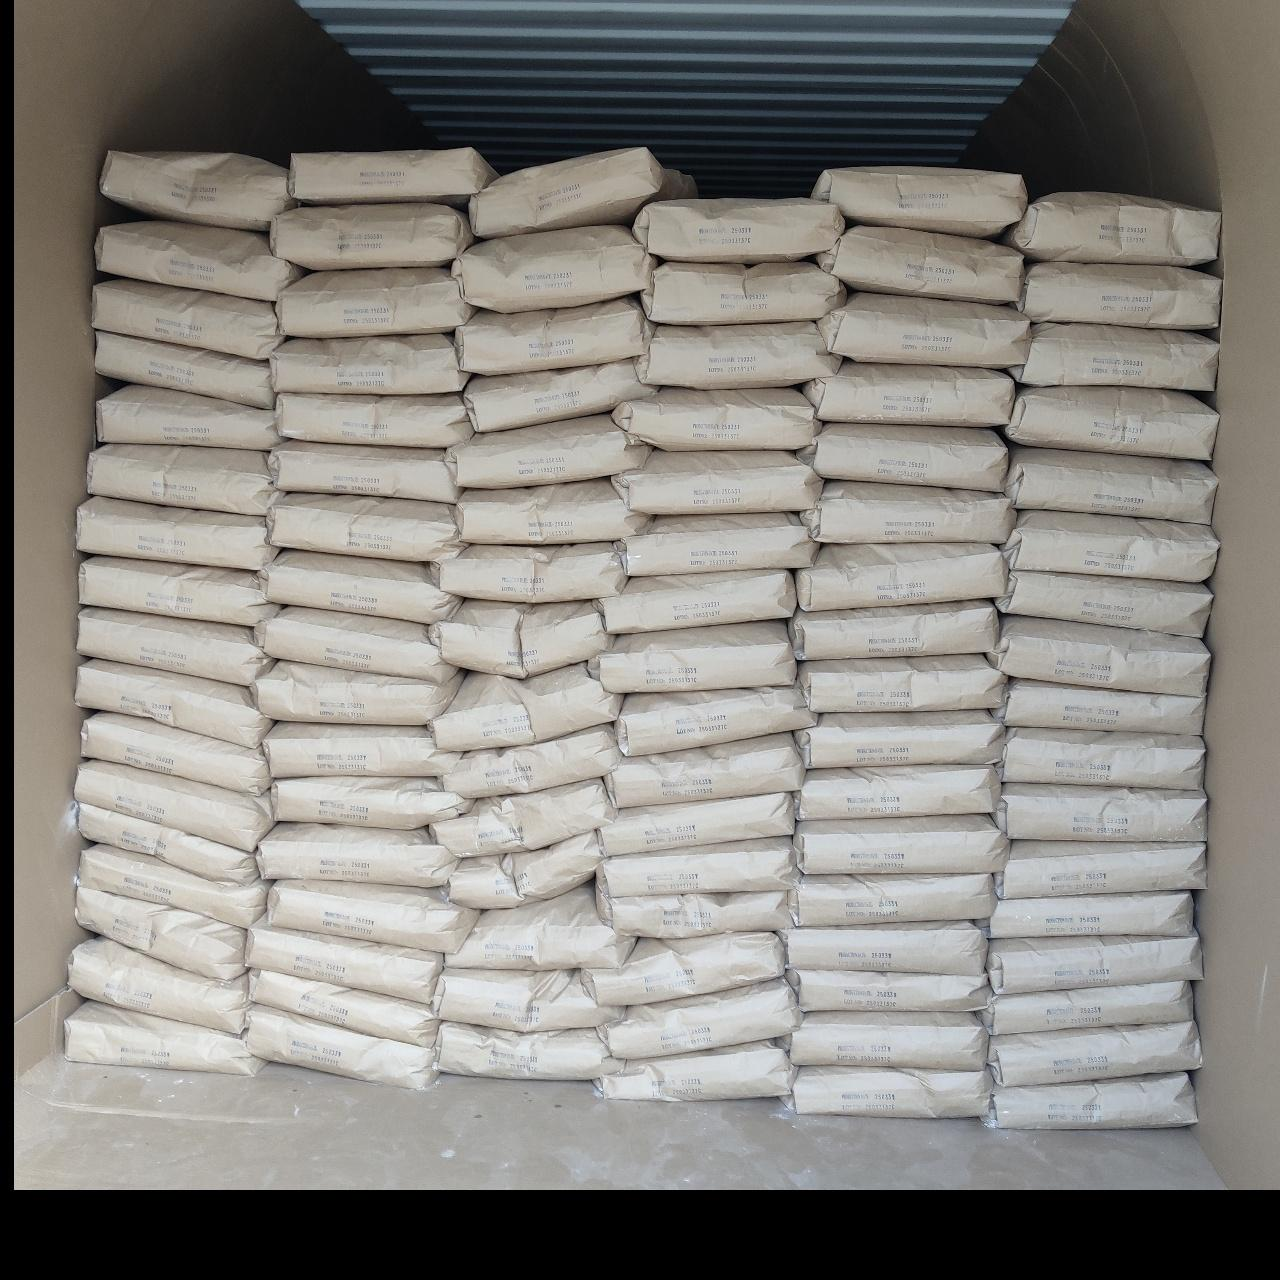sack: (470, 147, 695, 237), (75, 760, 274, 851), (452, 226, 656, 312), (70, 937, 247, 1034), (76, 660, 272, 747), (987, 618, 1207, 694), (95, 222, 305, 300), (430, 665, 619, 750), (601, 978, 799, 1058), (1005, 447, 1217, 522), (79, 845, 272, 927), (246, 921, 442, 1002), (817, 292, 1028, 367), (1003, 192, 1220, 265), (1005, 386, 1217, 459), (77, 886, 245, 979), (100, 151, 297, 230), (91, 278, 282, 359), (246, 1007, 437, 1088), (82, 712, 270, 794), (445, 885, 633, 967), (77, 607, 273, 686), (455, 297, 652, 374), (1003, 511, 1218, 581), (445, 414, 649, 488), (817, 225, 1022, 298), (256, 607, 456, 681), (64, 1002, 264, 1076), (590, 621, 795, 693), (464, 356, 656, 433), (77, 496, 275, 570), (605, 733, 803, 806), (248, 968, 437, 1046), (583, 932, 783, 1005), (268, 881, 478, 951), (812, 168, 1026, 236), (259, 550, 458, 622), (796, 542, 1007, 610), (431, 779, 615, 856), (87, 444, 286, 515), (798, 423, 1007, 490), (1009, 322, 1218, 389), (80, 556, 278, 626), (430, 600, 610, 678), (636, 321, 840, 389), (996, 571, 1211, 635), (79, 805, 259, 881), (988, 1021, 1201, 1085), (95, 331, 273, 407), (1019, 263, 1221, 329), (275, 268, 474, 336), (617, 687, 815, 755), (612, 450, 821, 515), (252, 661, 464, 724), (271, 203, 474, 268), (802, 481, 1015, 543), (267, 493, 461, 561), (441, 726, 621, 798), (803, 363, 1014, 425), (634, 199, 844, 261), (256, 823, 458, 886), (613, 389, 818, 450), (455, 478, 648, 543), (994, 840, 1206, 899), (600, 570, 795, 633), (597, 836, 795, 898), (642, 263, 844, 324), (790, 600, 999, 659), (618, 515, 817, 576), (96, 384, 280, 450), (982, 1071, 1197, 1128), (429, 542, 626, 602), (996, 783, 1205, 840), (450, 830, 602, 908), (601, 794, 794, 856), (988, 935, 1200, 992), (785, 1012, 988, 1070), (434, 968, 621, 1032), (597, 876, 791, 937), (1003, 727, 1201, 787), (796, 710, 1001, 768), (794, 817, 1002, 873), (268, 334, 468, 393), (290, 147, 497, 203), (797, 655, 1005, 712), (270, 441, 458, 501), (979, 981, 1192, 1034), (264, 722, 462, 778), (600, 1042, 794, 1099), (797, 765, 999, 819), (994, 681, 1204, 733), (788, 874, 996, 926), (779, 922, 983, 975), (275, 393, 474, 447), (787, 1065, 990, 1117), (440, 1022, 620, 1080), (271, 777, 469, 828), (976, 892, 1193, 938), (787, 971, 990, 1012)
